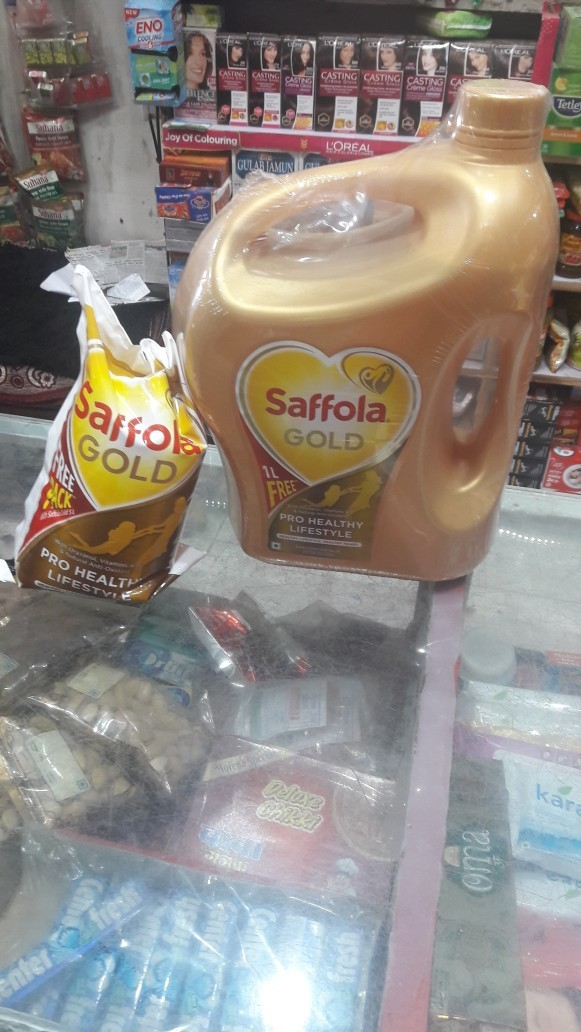saffola: (146, 47, 573, 591), (57, 268, 214, 576)
